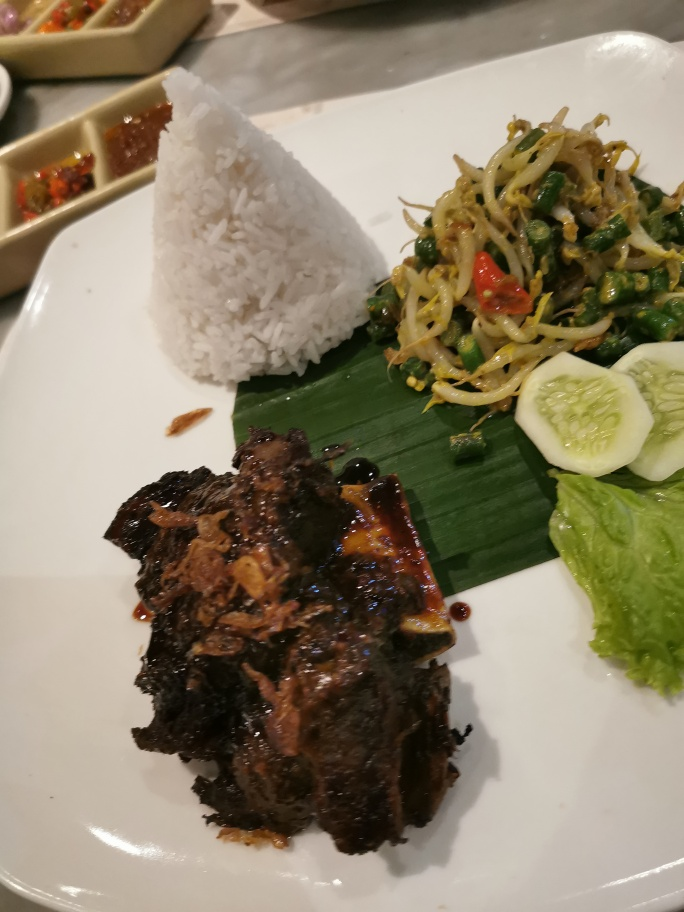iga bakar: (99, 419, 474, 859)
nasi putih: (133, 62, 391, 388)
